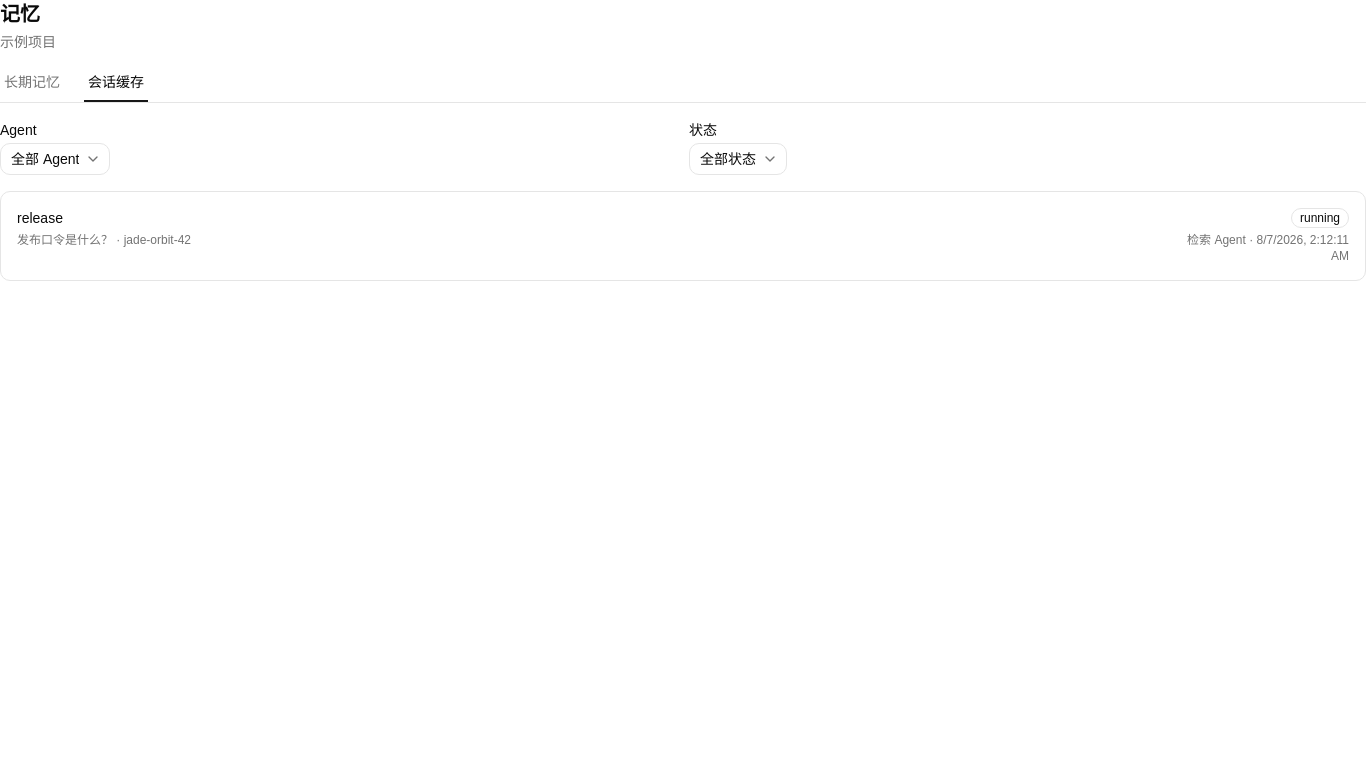
Test: 记忆管理页 › 在独立会话缓存页显示摘要、详情与蒸馏操作
The width and height of the screenshot is (1366, 768).
expect the text "发布口令是什么？ · jade-orbit-42" is shown: met, box [17,233,191,247]
Click the button with aria-label "查看会话缓存 release": (40, 218) [1,192,1365,280]
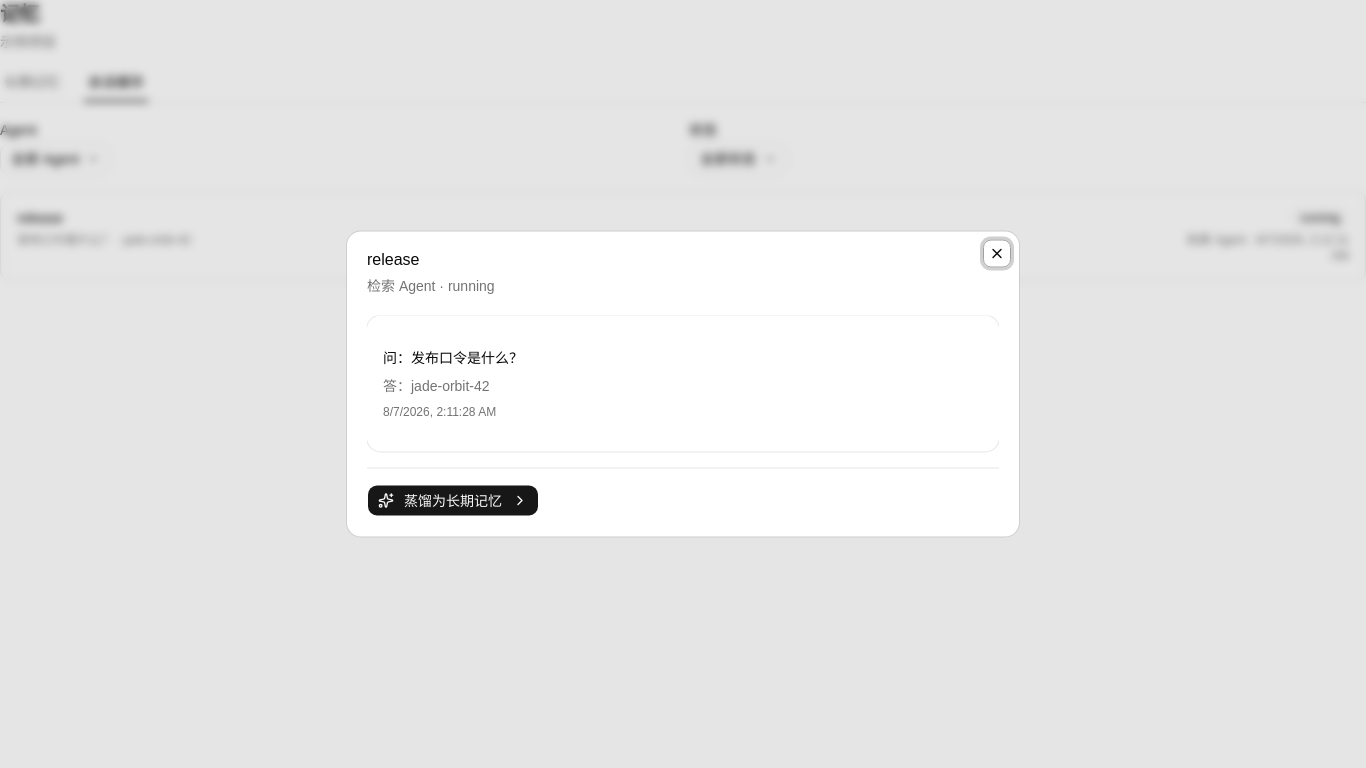
expect the text "问：发布口令是什么？" is shown: met, box [383,350,523,366]
expect the button "蒸馏为长期记忆" is shown: met, box [367,484,539,516]
